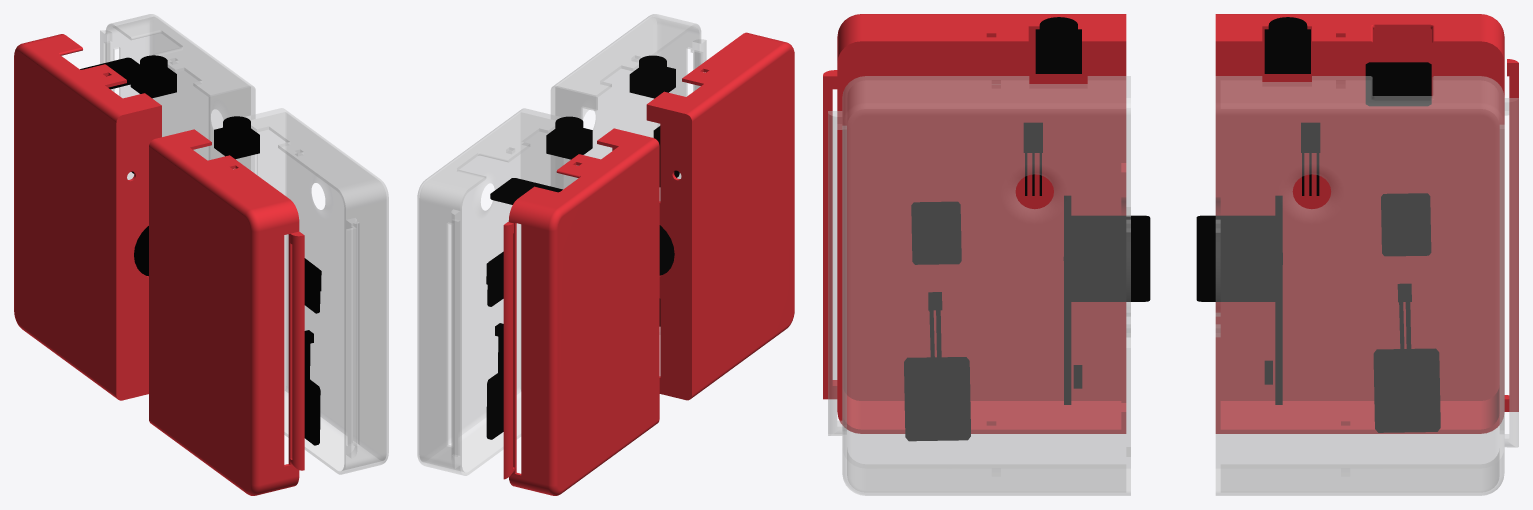
File: belt_model.glb
The picture shows the model from 3 angles, left to right: view 1: azimuth 30°, elevation 25°; view 2: azimuth 150°, elevation 25°; view 3: azimuth 270°, elevation 25°; orthographic projection. The views are drawn at different scales.
Parts seen in each view (by area): view 1: Belt_Old_Version; view 2: Belt_Old_Version; view 3: Belt_Old_Version.
Boxes of the visible parts, bbox=[...] form: Belt_Old_Version: bbox=[14, 14, 388, 495]; Belt_Old_Version: bbox=[417, 14, 794, 495]; Belt_Old_Version: bbox=[823, 14, 1518, 495].
Bounding box in the file's own units: 45.99 × 96.99 × 145.
